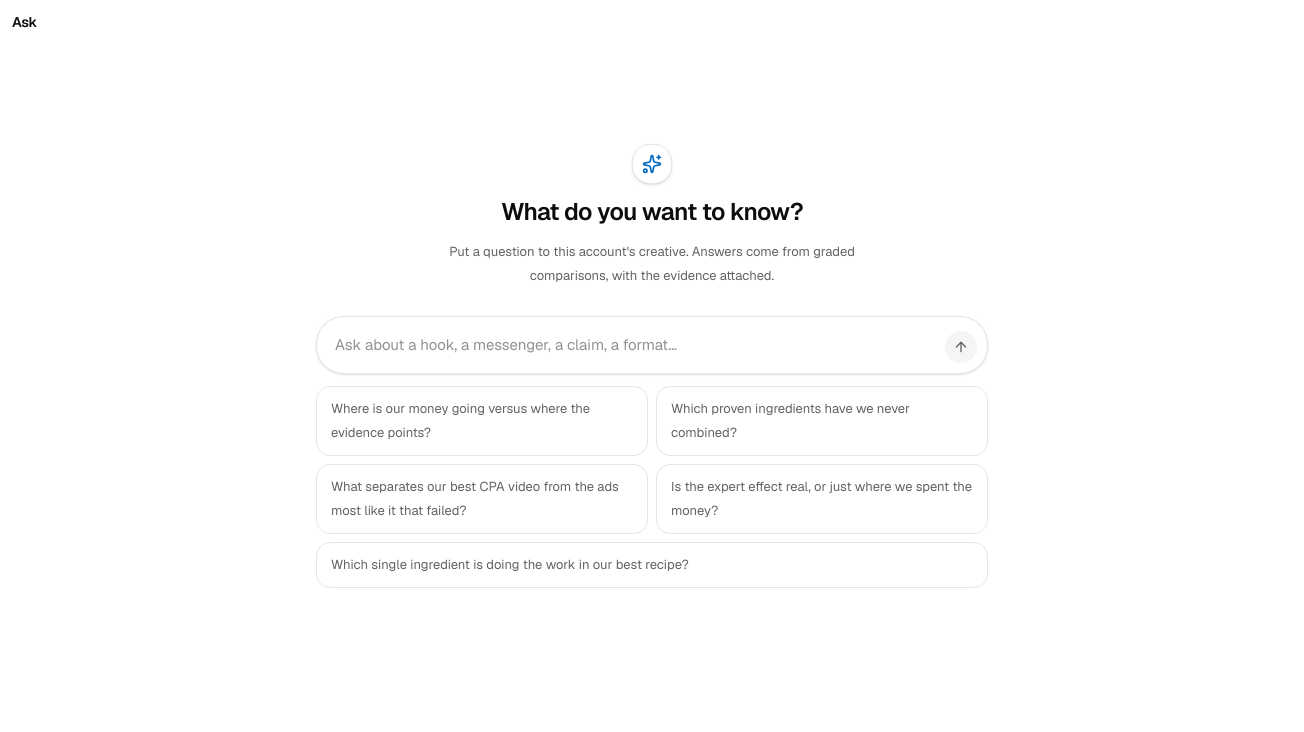
Scenario: AccountReadAsk › attaches a failure to its own exchange, leaving earlier answers intact
The image size is (1304, 732).
Type "first question" into the text box named "ask this account a question" at (632, 345), box [327,325,937,365]
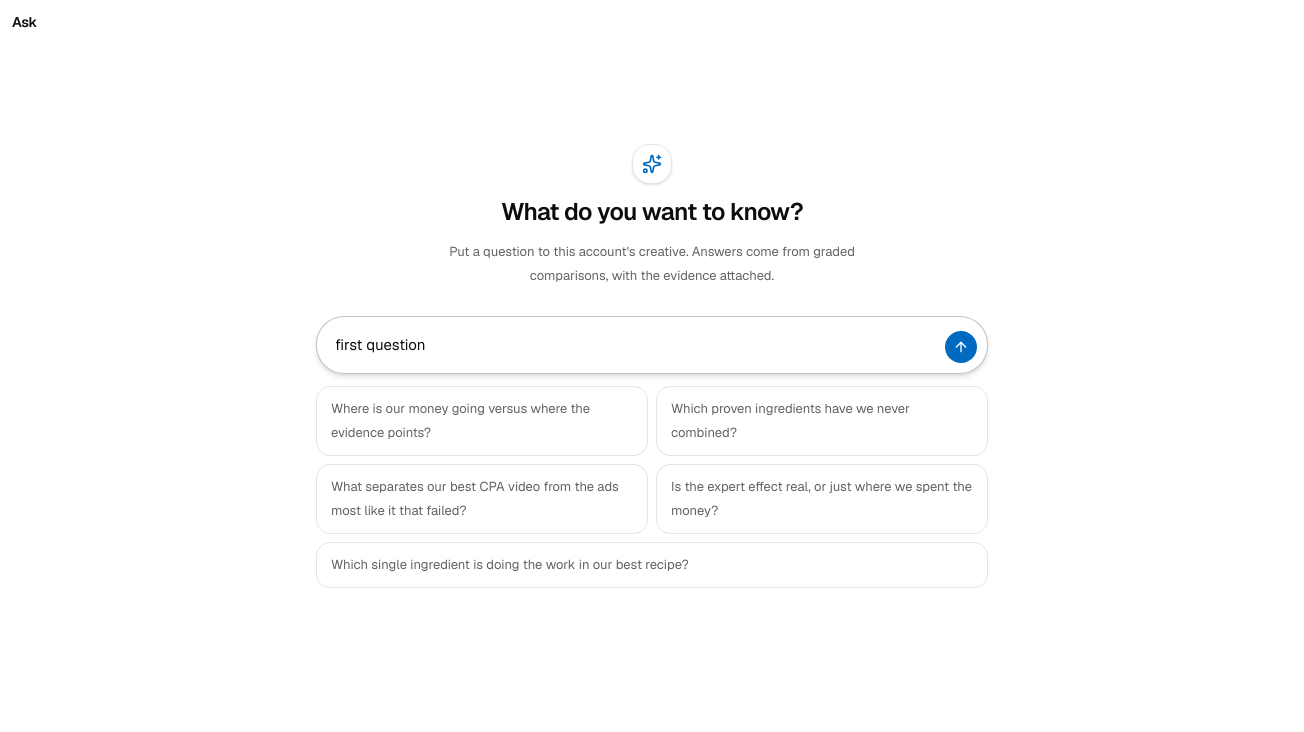
Click the button named "Ask" at (961, 347), box [945,331,977,363]
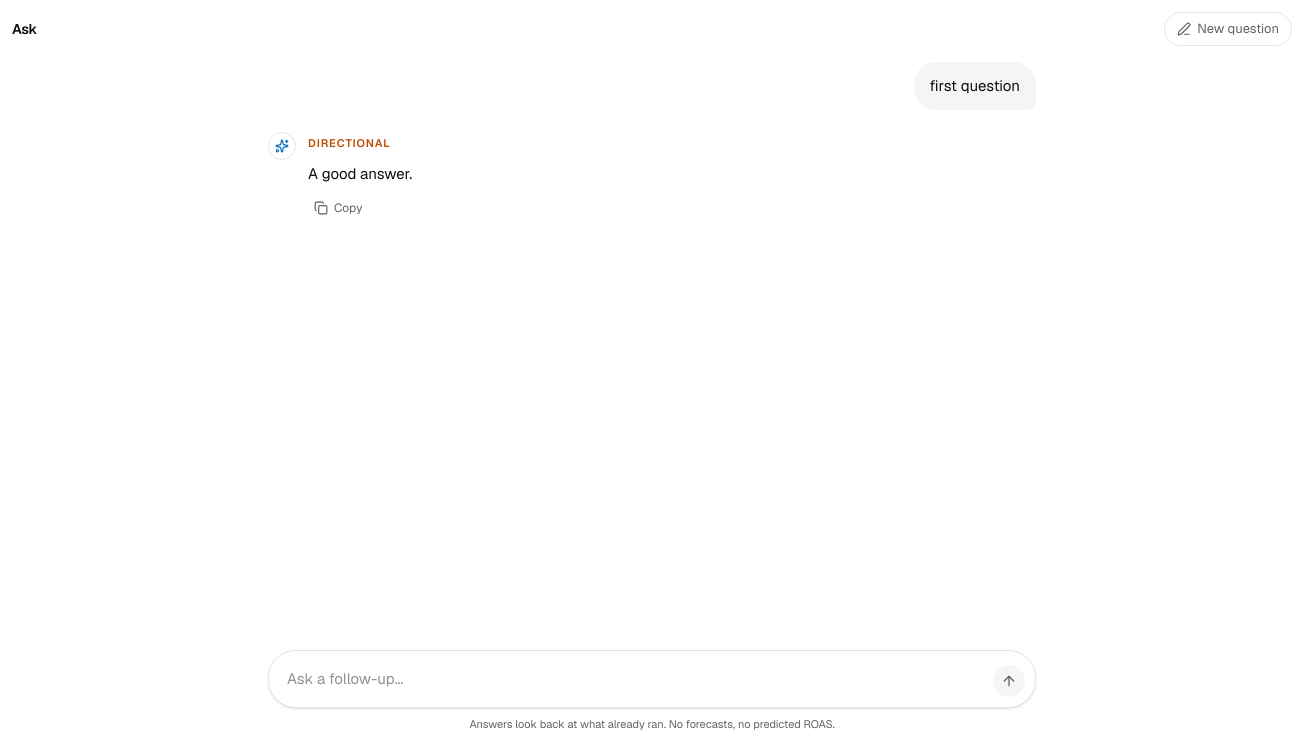
Result: the text "A good answer." is shown at [308,164,412,182]
Type "second question" into the text box named "ask this account a question" at (632, 678), box [279,658,985,698]
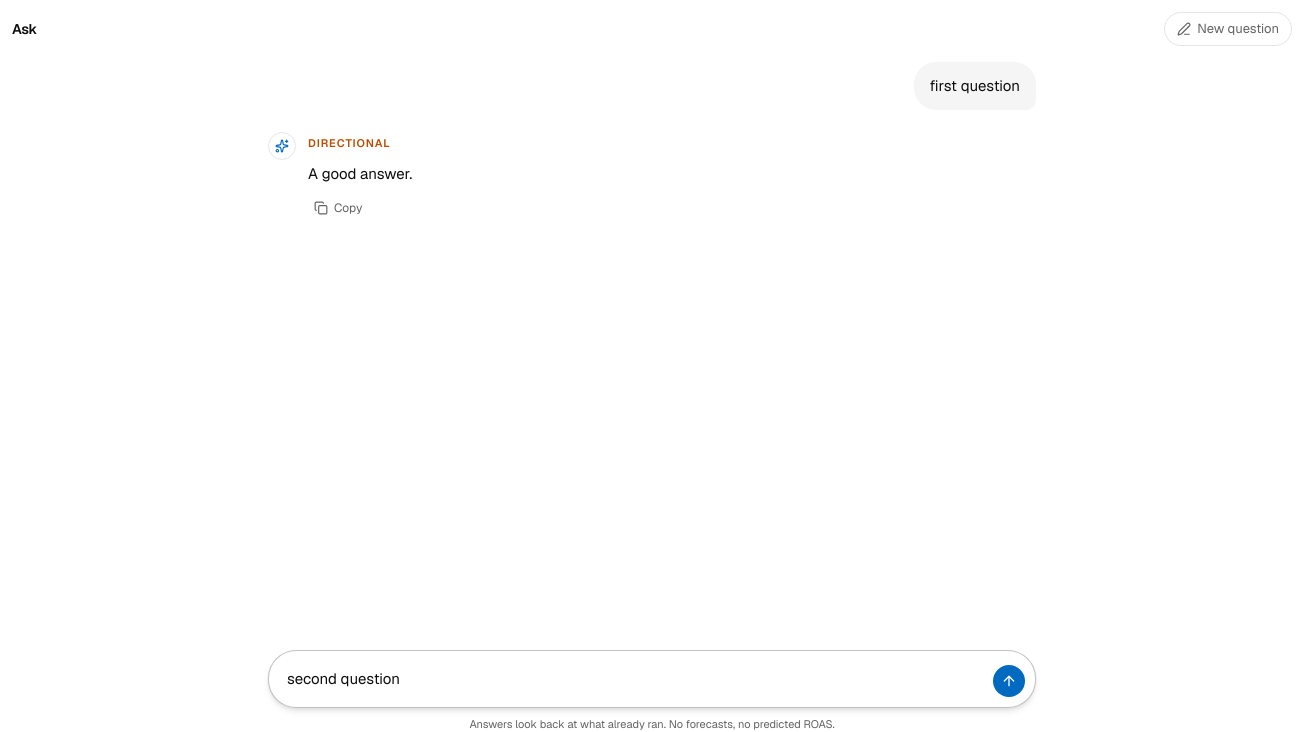
Click the button named "Ask" at (1009, 680), box [993,664,1025,696]
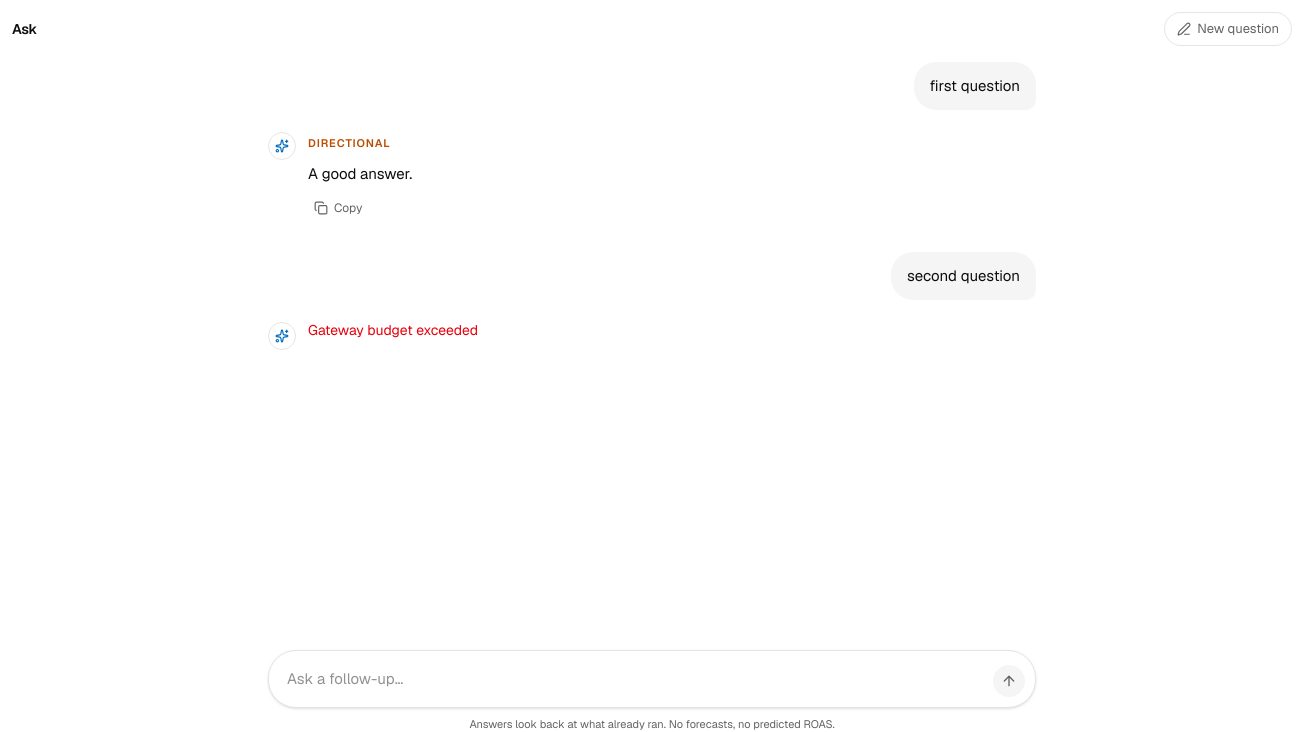
Result: the text "A good answer." is shown at [308,164,412,182]
Result: the text "Gateway budget exceeded" is shown at [308,320,478,338]
